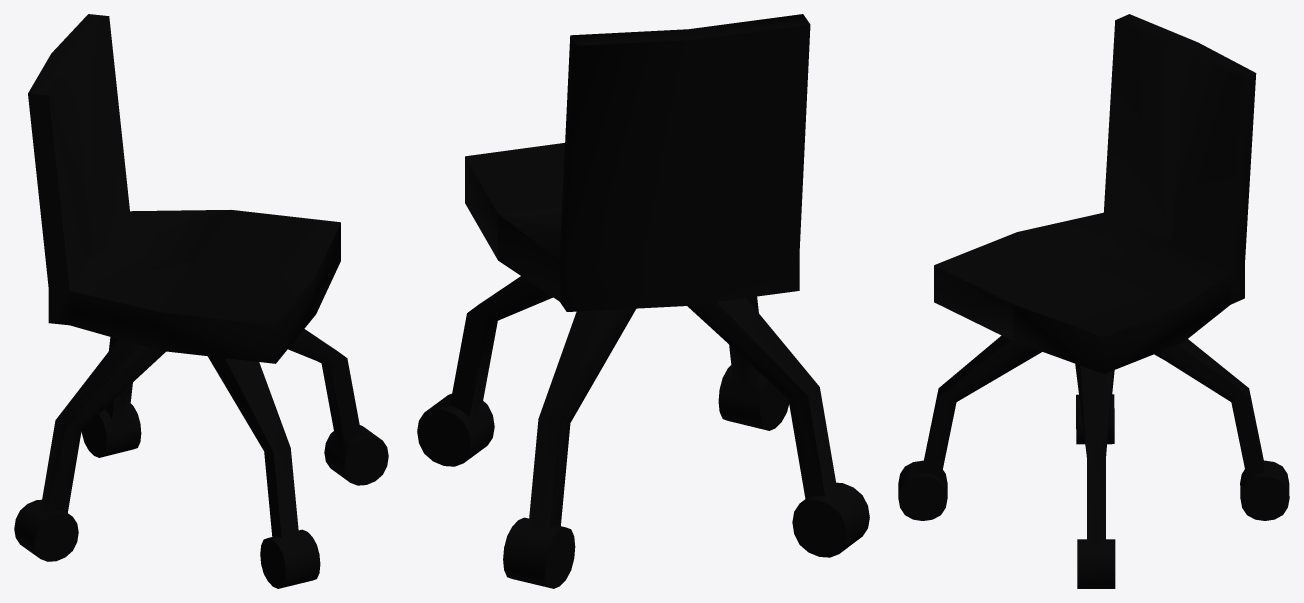
Rendered from officechair.obj.
The picture shows the model from 3 angles, left to right: view 1: azimuth 30°, elevation 25°; view 2: azimuth 150°, elevation 25°; view 3: azimuth 270°, elevation 25°; orthographic projection. The views are drawn at different scales.
Parts seen in each view (by area): view 1: skin; view 2: skin; view 3: skin.
Part boxes in pixels (x1,y1,x2,y2): skin: [14, 14, 388, 588]; skin: [417, 14, 869, 588]; skin: [898, 14, 1289, 588].
Size of the model in its own units: 14.97 by 18.01 by 14.94.
Materials: 1 (1 with a texture image).
